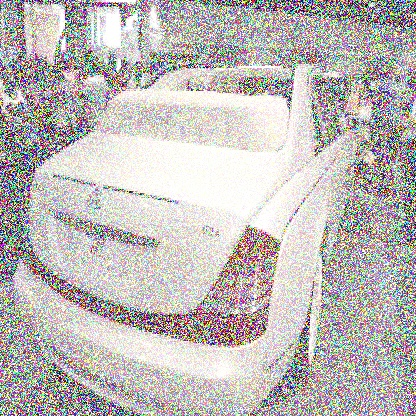Vehicle: (11, 64, 360, 414)
